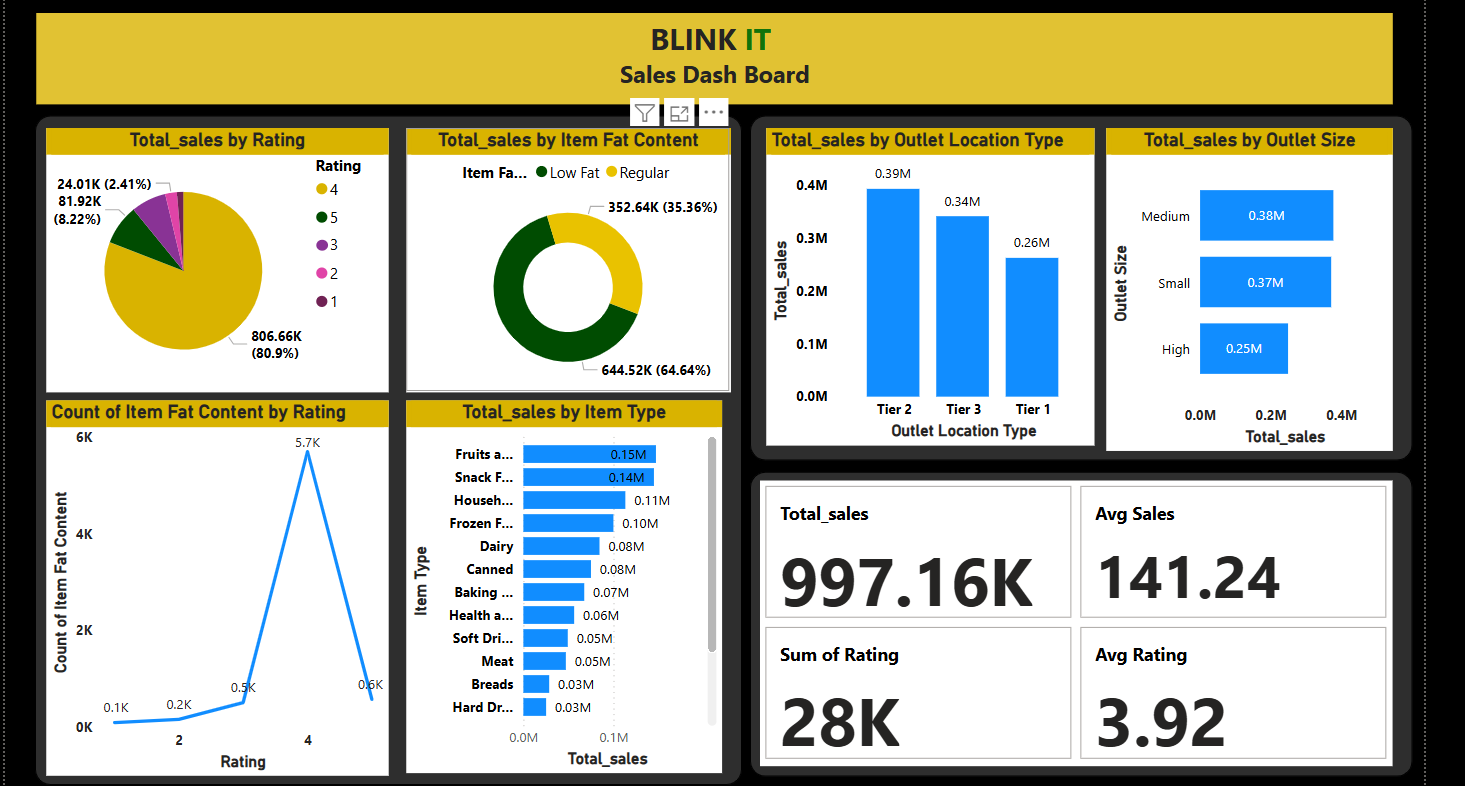

What the dashboard file says about the page in this screenshot:
{"tool":"powerbi","page":{"name":"Page 1","canvas":[1280,720],"ordinal":0},"visuals":[{"type":"shape","box":[27.5,110,637.5,603.8],"z":0},{"type":"shape","box":[671.2,110,597.5,311.2],"z":1000},{"type":"shape","box":[671.2,431.2,597.5,275],"z":2000},{"type":"textbox","box":[27.8,17.8,1223.3,82.2],"z":3000},{"type":"columnChart","fields":{"Category":["BlinkIT Grocery Data.Outlet Location Type"],"Y":["BlinkIT Grocery Data.Total_sales"]},"box":[686.2,121.2,296.2,286.2],"z":4000},{"type":"barChart","fields":{"Category":["BlinkIT Grocery Data.Item Type"],"Y":["BlinkIT Grocery Data.Total_sales"]},"box":[361.2,367.5,285,336.2],"z":5000},{"type":"donutChart","fields":{"Category":["BlinkIT Grocery Data.Item Fat Content"],"Y":["BlinkIT Grocery Data.Total_sales"]},"box":[361.2,121.2,292.5,238.8],"z":6000},{"type":"barChart","fields":{"Category":["BlinkIT Grocery Data.Outlet Size"],"Y":["BlinkIT Grocery Data.Total_sales"]},"box":[992.5,121.2,258.8,291.2],"z":7000},{"type":"pieChart","fields":{"Category":["BlinkIT Grocery Data.Rating"],"Y":["BlinkIT Grocery Data.Total_sales"]},"box":[37.5,121.2,308.8,238.8],"z":8000},{"type":"lineChart","fields":{"Category":["BlinkIT Grocery Data.Rating"],"Y":["CountNonNull(BlinkIT Grocery Data.Item Fat Content)"]},"box":[37.5,367.5,308.8,338.8],"z":9000},{"type":"cardVisual","fields":{"Data":["BlinkIT Grocery Data.Total_sales","BlinkIT Grocery Data.Avg Sales","Sum(BlinkIT Grocery Data.Rating)","BlinkIT Grocery Data.Avg Rating"]},"box":[681.2,440,570,257.5],"z":10000}]}

Visuals, with their boxes in screenshot pixels (x1, y1, x2, y2):
shape: 31, 111, 742, 785
shape: 749, 111, 1416, 459
shape: 749, 470, 1416, 777
textbox: 31, 8, 1396, 100
columnChart - BlinkIT Grocery Data.Outlet Location Type x BlinkIT Grocery Data.Total_sales: 766, 124, 1096, 443
barChart - BlinkIT Grocery Data.Item Type x BlinkIT Grocery Data.Total_sales: 403, 399, 721, 774
donutChart - BlinkIT Grocery Data.Item Fat Content x BlinkIT Grocery Data.Total_sales: 403, 124, 730, 390
barChart - BlinkIT Grocery Data.Outlet Size x BlinkIT Grocery Data.Total_sales: 1108, 124, 1396, 449
pieChart - BlinkIT Grocery Data.Rating x BlinkIT Grocery Data.Total_sales: 42, 124, 386, 390
lineChart - BlinkIT Grocery Data.Rating x CountNonNull(BlinkIT Grocery Data.Item Fat Content): 42, 399, 386, 777
cardVisual - BlinkIT Grocery Data.Total_sales x BlinkIT Grocery Data.Avg Sales: 760, 480, 1396, 767
